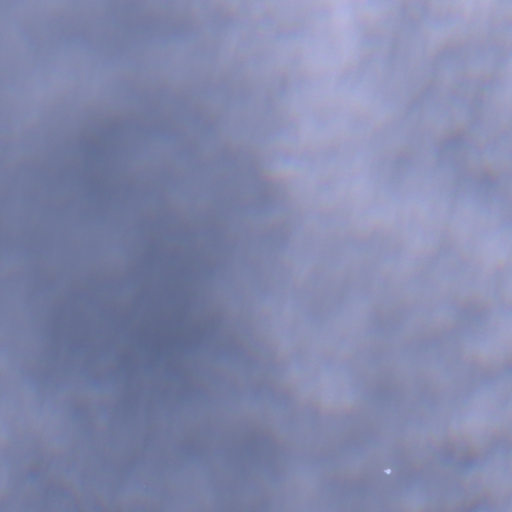Iceberg: (384, 469, 390, 473)
